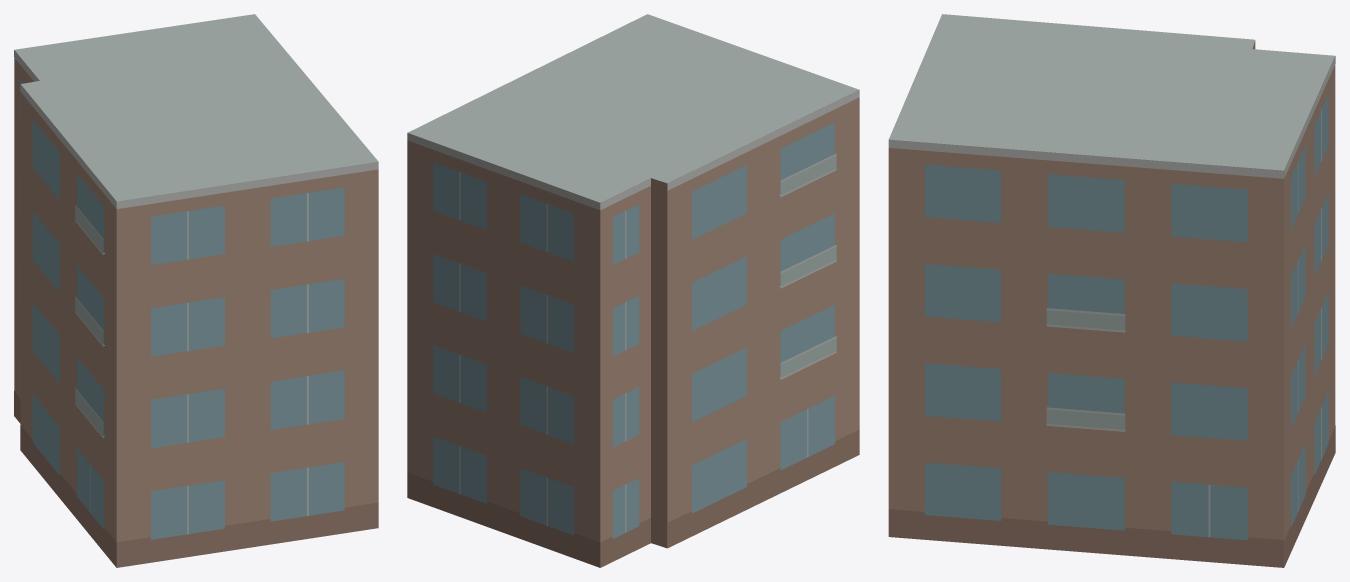
File: survey-upis-32785667.glb
3 views of the same model, side by side, from view 1: azimuth 30°, elevation 25°; view 2: azimuth 150°, elevation 25°; view 3: azimuth 270°, elevation 25° (orthographic). The views are drawn at different scales.
Visible parts, largest first — view 1: survey-upis-32785667.tmp; view 2: survey-upis-32785667.tmp; view 3: survey-upis-32785667.tmp.
Part boxes in pixels (bbox=[...]): survey-upis-32785667.tmp: bbox=[14, 14, 378, 567]; survey-upis-32785667.tmp: bbox=[407, 14, 859, 567]; survey-upis-32785667.tmp: bbox=[888, 14, 1335, 567].
Bounding box in the file's own units: 9.99 × 11.8 × 12.04.
